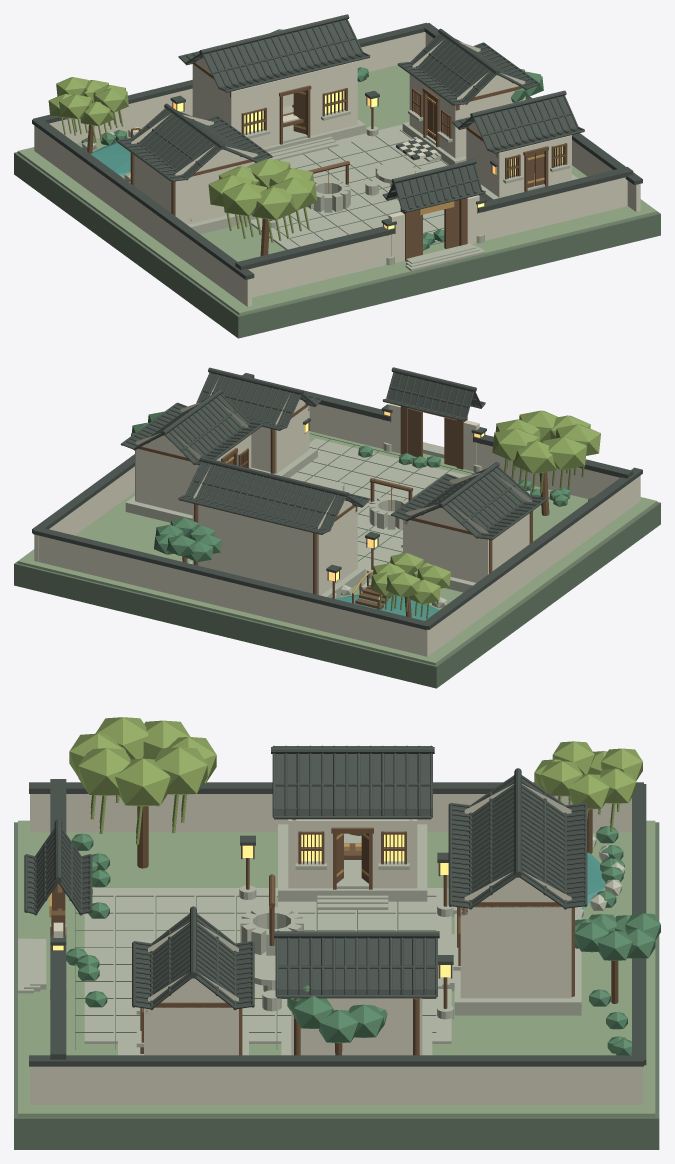
Rendered from estate.glb.
3 renders of one model, top to bottom at view 1: azimuth 30°, elevation 25°; view 2: azimuth 150°, elevation 25°; view 3: azimuth 270°, elevation 25°, orthographic. The views are drawn at different scales.
Parts seen in each view (by area): view 1: landscape / Earth · deep moss, landscape / Garden · sage, nav_home / Limestone · warm grey, landscape / Lime plaster · ivory, nav_home / Lime plaster · ivory, landscape / Willow · olive, nav_library / Tiles · charcoal jade, nav_library / Lime plaster · ivory, nav_home / Tiles · charcoal jade, nav_making / Tiles · charcoal jade, landscape / Tiles · charcoal jade, nav_lab / Tiles · charcoal jade (+18 smaller); view 2: landscape / Lime plaster · ivory, landscape / Earth · deep moss, landscape / Garden · sage, nav_library / Lime plaster · ivory, landscape / Willow · olive, landscape / Tiles · charcoal jade, nav_home / Limestone · warm grey, nav_library / Tiles · charcoal jade, nav_making / Lime plaster · ivory, nav_home / Lime plaster · ivory, nav_making / Tiles · charcoal jade, nav_lab / Tiles · charcoal jade (+16 smaller); view 3: landscape / Garden · sage, landscape / Lime plaster · ivory, landscape / Earth · deep moss, nav_home / Limestone · warm grey, landscape / Willow · olive, nav_library / Tiles · charcoal jade, landscape / Tiles · charcoal jade, nav_library / Lime plaster · ivory, nav_making / Tiles · charcoal jade, landscape / Bamboo · forest, nav_lab / Tiles · charcoal jade, nav_backyard / Tiles · charcoal jade (+19 smaller).
Part boxes in pixels (left/top/right/bottom): landscape / Earth · deep moss: left=14, top=152, right=660, bottom=338; landscape / Garden · sage: left=17, top=65, right=657, bottom=315; nav_home / Limestone · warm grey: left=248, top=124, right=485, bottom=270; landscape / Lime plaster · ivory: left=34, top=32, right=640, bottom=306; nav_home / Lime plaster · ivory: left=248, top=177, right=627, bottom=297; landscape / Willow · olive: left=48, top=77, right=317, bottom=242; nav_library / Tiles · charcoal jade: left=178, top=14, right=370, bottom=92; nav_library / Lime plaster · ivory: left=192, top=22, right=357, bottom=147; nav_home / Tiles · charcoal jade: left=235, top=159, right=633, bottom=269; nav_making / Tiles · charcoal jade: left=116, top=103, right=272, bottom=182; landscape / Tiles · charcoal jade: left=32, top=22, right=642, bottom=279; nav_lab / Tiles · charcoal jade: left=396, top=28, right=539, bottom=160; landscape / Lime plaster · ivory: left=34, top=466, right=640, bottom=656; landscape / Earth · deep moss: left=14, top=502, right=660, bottom=688; landscape / Garden · sage: left=17, top=431, right=657, bottom=665; nav_library / Lime plaster · ivory: left=192, top=466, right=357, bottom=595; landscape / Willow · olive: left=370, top=410, right=600, bottom=618; landscape / Tiles · charcoal jade: left=32, top=373, right=642, bottom=629; nav_home / Limestone · warm grey: left=290, top=438, right=530, bottom=576; nav_library / Tiles · charcoal jade: left=178, top=456, right=370, bottom=534; nav_making / Lime plaster · ivory: left=403, top=471, right=532, bottom=582; nav_home / Lime plaster · ivory: left=309, top=403, right=619, bottom=498; nav_making / Tiles · charcoal jade: left=391, top=462, right=547, bottom=540; nav_lab / Tiles · charcoal jade: left=120, top=389, right=262, bottom=464; landscape / Garden · sage: left=18, top=820, right=655, bottom=1116; landscape / Lime plaster · ivory: left=30, top=794, right=642, bottom=1104; landscape / Earth · deep moss: left=14, top=822, right=659, bottom=1149; nav_home / Limestone · warm grey: left=18, top=888, right=451, bottom=1043; landscape / Willow · olive: left=69, top=717, right=642, bottom=844; nav_library / Tiles · charcoal jade: left=448, top=768, right=587, bottom=909; landscape / Tiles · charcoal jade: left=29, top=782, right=646, bottom=1066; nav_library / Lime plaster · ivory: left=460, top=784, right=571, bottom=998; nav_making / Tiles · charcoal jade: left=271, top=745, right=434, bottom=819; landscape / Bamboo · forest: left=66, top=826, right=660, bottom=1055; nav_lab / Tiles · charcoal jade: left=274, top=931, right=439, bottom=998; nav_backyard / Tiles · charcoal jade: left=132, top=906, right=254, bottom=1010.
Size of the model in its own units: 17.4 by 4.98 by 16.04.
